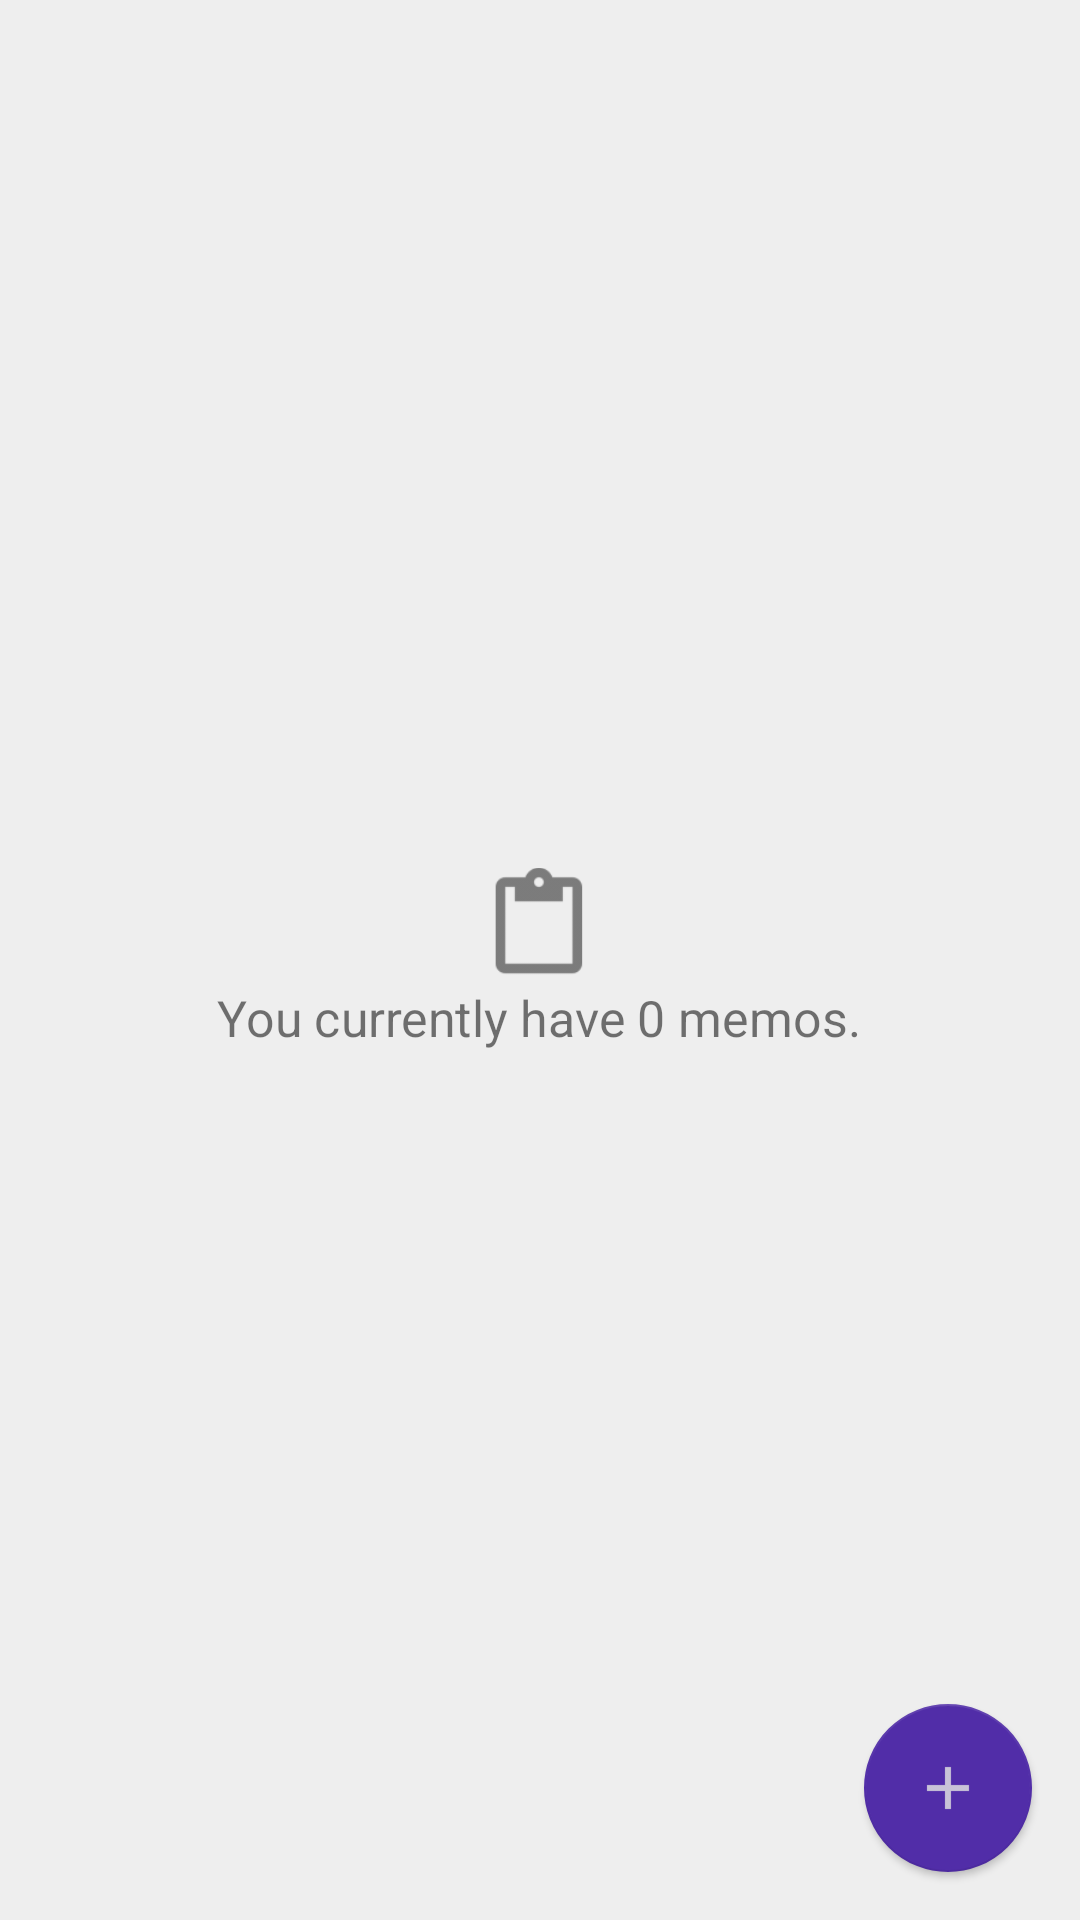

Named icons in this screenshot (1080x1920) and their centers, point (x, y):
add memo: point (948, 1788)
